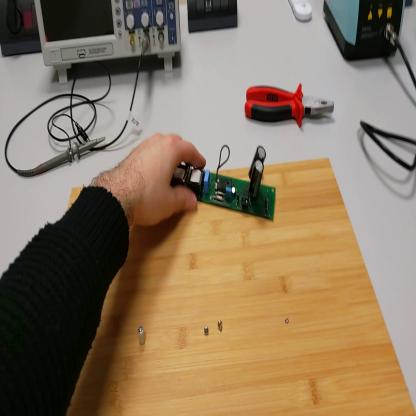hand: (121, 132, 207, 229)
high voltage board: (171, 148, 277, 224)
oscilloscope: (35, 2, 182, 88)
pliers: (245, 84, 336, 132)
socket: (1, 1, 44, 57)
welder station: (324, 1, 407, 68)
working area: (69, 159, 416, 415)
